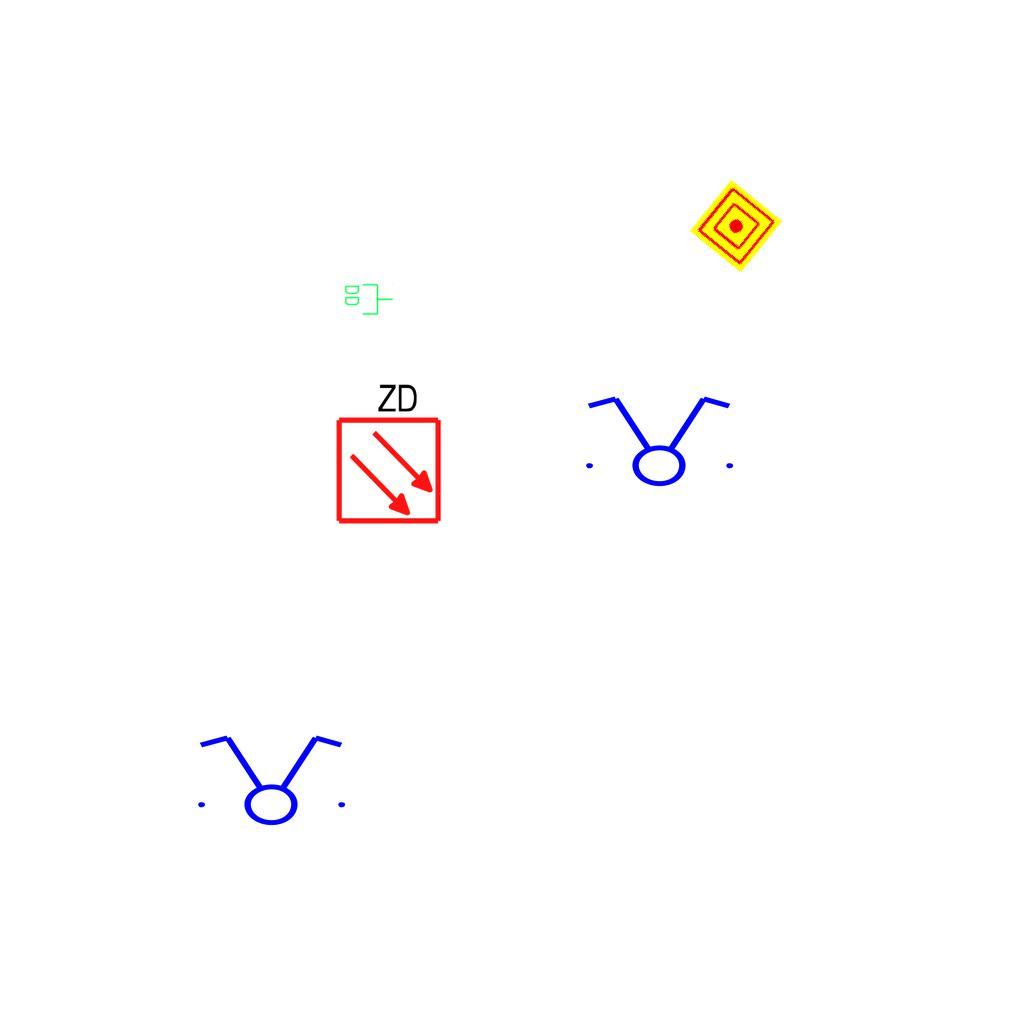Datenanschluss_zweifach: (343, 282, 394, 316)
NAM-Nichtautomatischer_Melder: (689, 179, 783, 273)
Serienschalter: (574, 392, 742, 488), (186, 731, 354, 827)
ZD_Melder_in_Zwischendecke_mit_Revisionsoeffnung_mind_40_x_40_cm: (330, 377, 444, 526)
